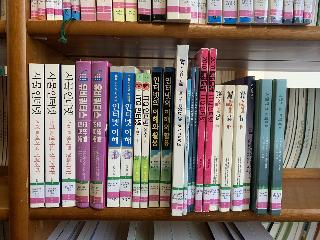book-spine: (171, 45, 189, 216), (89, 60, 107, 209), (270, 79, 286, 215), (29, 63, 44, 207), (256, 79, 272, 214), (203, 48, 216, 211), (107, 66, 122, 207), (120, 66, 135, 207), (159, 67, 174, 207), (76, 61, 90, 208), (232, 85, 248, 212), (45, 64, 59, 207), (62, 65, 76, 207), (196, 48, 208, 212), (220, 85, 235, 212), (209, 85, 224, 211), (241, 76, 255, 210), (149, 67, 162, 208), (132, 73, 143, 208), (190, 67, 200, 211), (140, 73, 150, 208), (187, 67, 195, 211), (183, 80, 191, 215)
